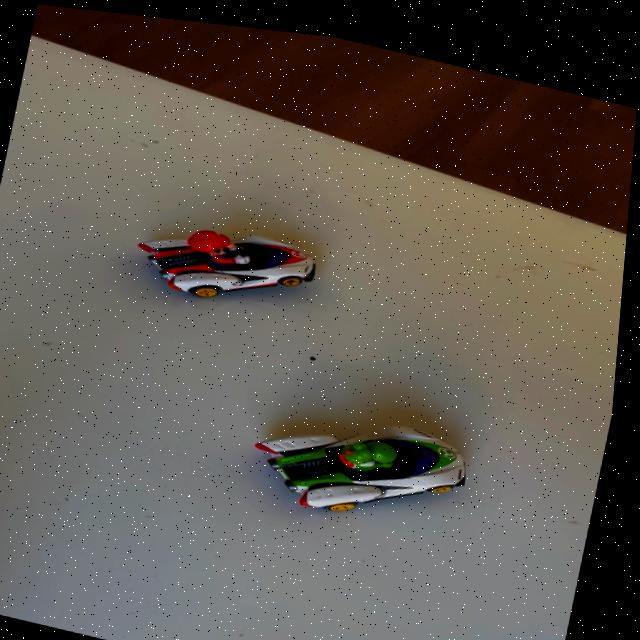mario: (116, 198, 337, 327)
yoshi: (234, 382, 497, 548)
